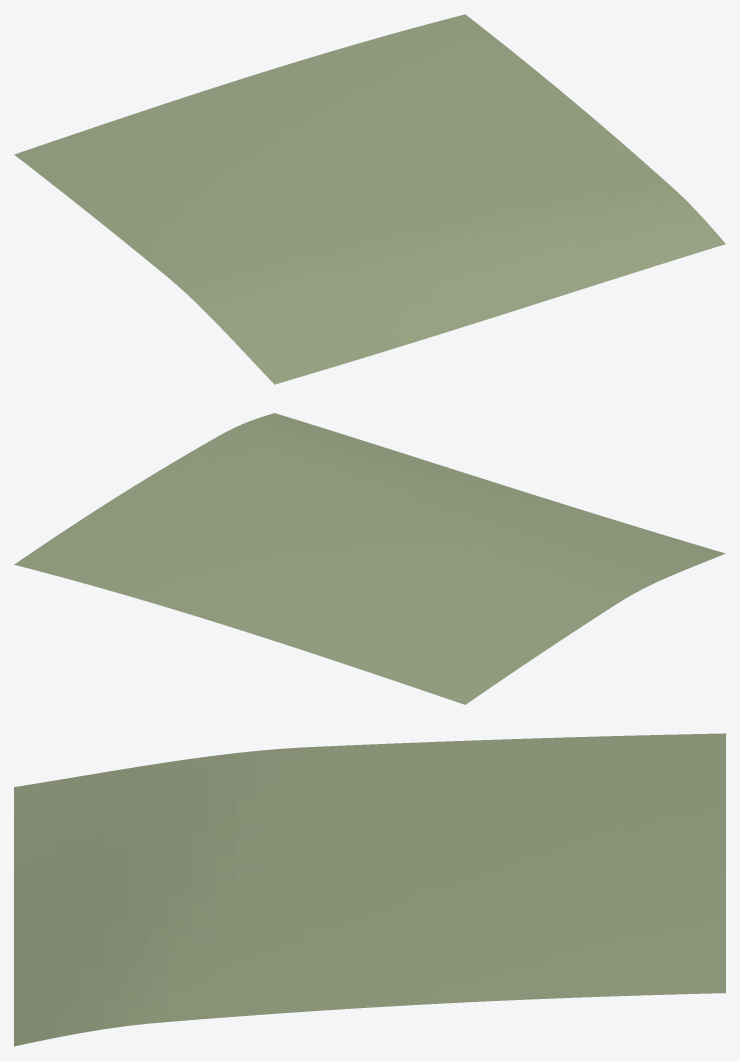
Rendered from valley-10-6.glb.
3 renders of one model, top to bottom at view 1: azimuth 30°, elevation 25°; view 2: azimuth 150°, elevation 25°; view 3: azimuth 270°, elevation 25°, orthographic. The views are drawn at different scales.
Visible parts, largest first — view 1: valley-10-6; view 2: valley-10-6; view 3: valley-10-6.
Boxes of the visible parts, x1,y1,x2,y2 form: valley-10-6: (14, 14, 725, 384); valley-10-6: (14, 413, 725, 704); valley-10-6: (14, 733, 725, 1046).
Size of the model in its own units: 256 by 37.65 by 256.
